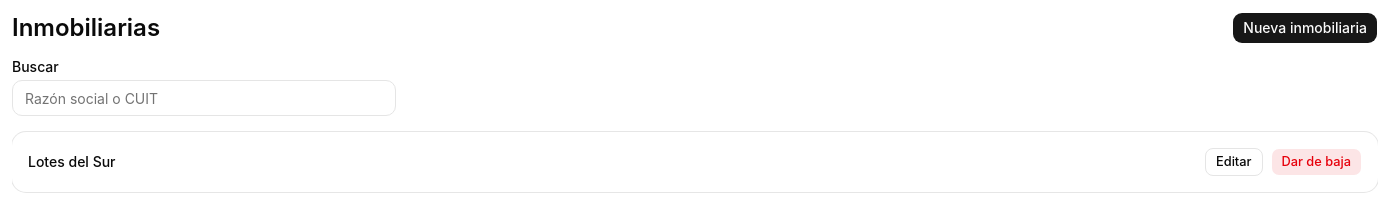
Test: AgenciesPage › reports a search with no matches
This screenshot has width=1390, height=210.
Expected: the text "Lotes del Sur" is shown, left=28, top=152, right=116, bottom=172
Step 1. Type "altamira" into the search field labelled "Buscar" → (204, 98), box left=12, top=80, right=396, bottom=116
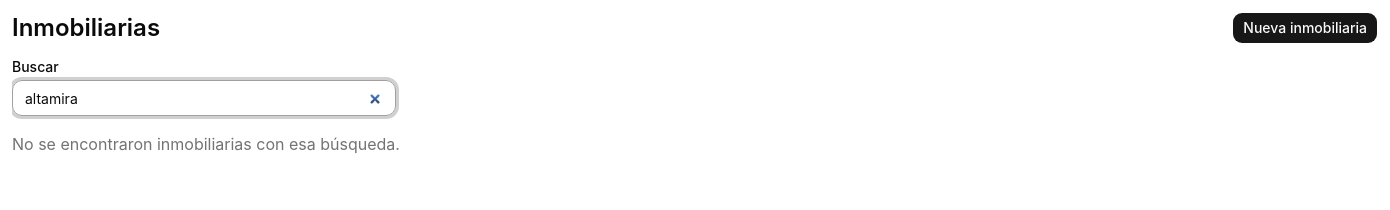
Result: the text "No se encontraron inmobiliarias con esa búsqueda." is shown at left=12, top=134, right=400, bottom=154
